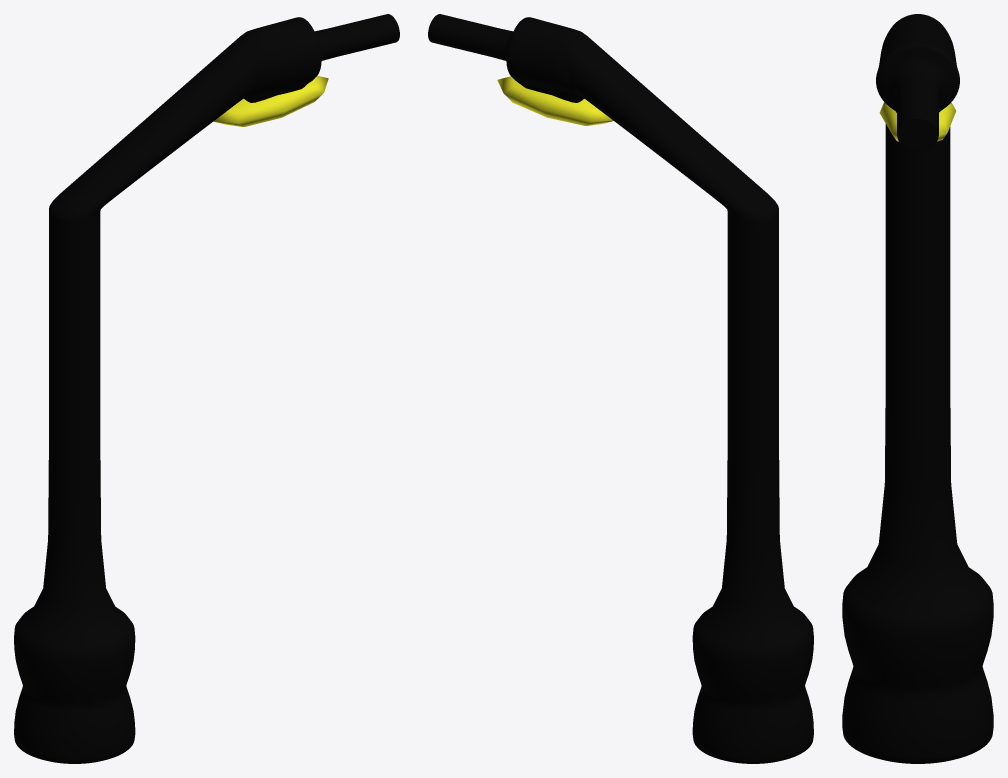
Rendered from uDSZntitled.fbx.
3 views of the same model, side by side, from view 1: azimuth 30°, elevation 25°; view 2: azimuth 150°, elevation 25°; view 3: azimuth 270°, elevation 25° (orthographic). The views are drawn at different scales.
Parts seen in each view (by area): view 1: Cylinder, Cube; view 2: Cylinder, Cube; view 3: Cylinder, Cube.
Boxes of the visible parts, x1,y1,x2,y2 form: Cylinder: [14, 14, 399, 763]; Cube: [213, 75, 328, 126]; Cylinder: [428, 14, 813, 763]; Cube: [497, 76, 613, 125]; Cylinder: [842, 14, 993, 763]; Cube: [879, 102, 955, 141].
Bounding box in the file's own units: 240 × 414 × 68.38.
